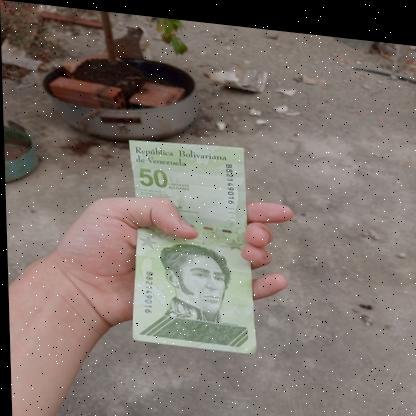fifty-front-vef: (125, 131, 254, 349)
